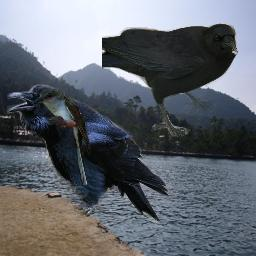Crow: (7, 84, 170, 225), (102, 23, 238, 137)
Cuckoo: (33, 88, 92, 185)
